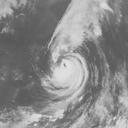cyclone: (40, 51, 93, 102)
